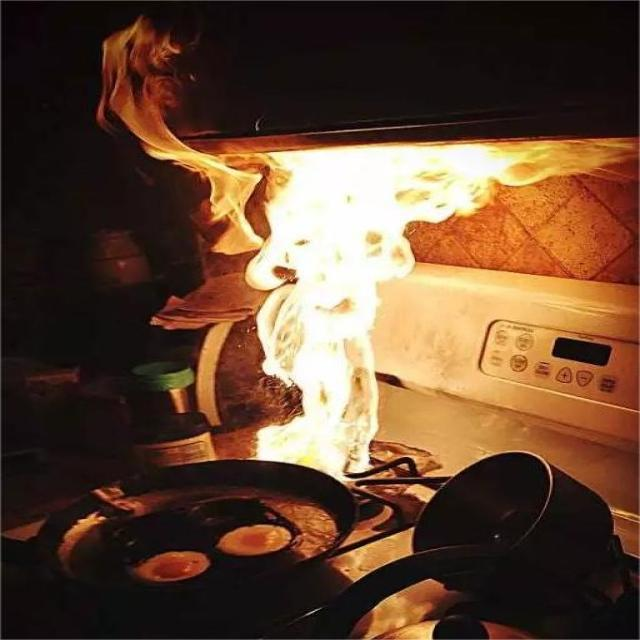Fire: (252, 145, 541, 468), (100, 18, 252, 256)
